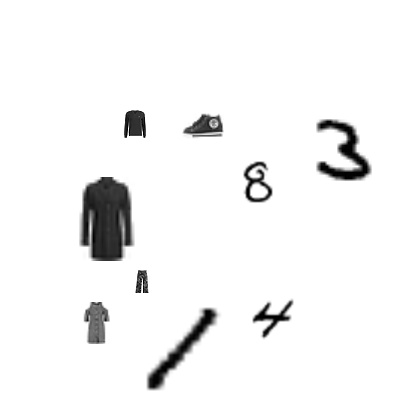1: (124, 293, 236, 405)
3: (302, 111, 386, 195)
4: (243, 289, 299, 345)
8: (228, 154, 284, 210)
Coat: (65, 177, 149, 261)
Dress: (75, 302, 117, 344)
Pullover: (121, 110, 149, 138)
Sneaker: (182, 105, 224, 147)
Trouser: (128, 270, 156, 298)
